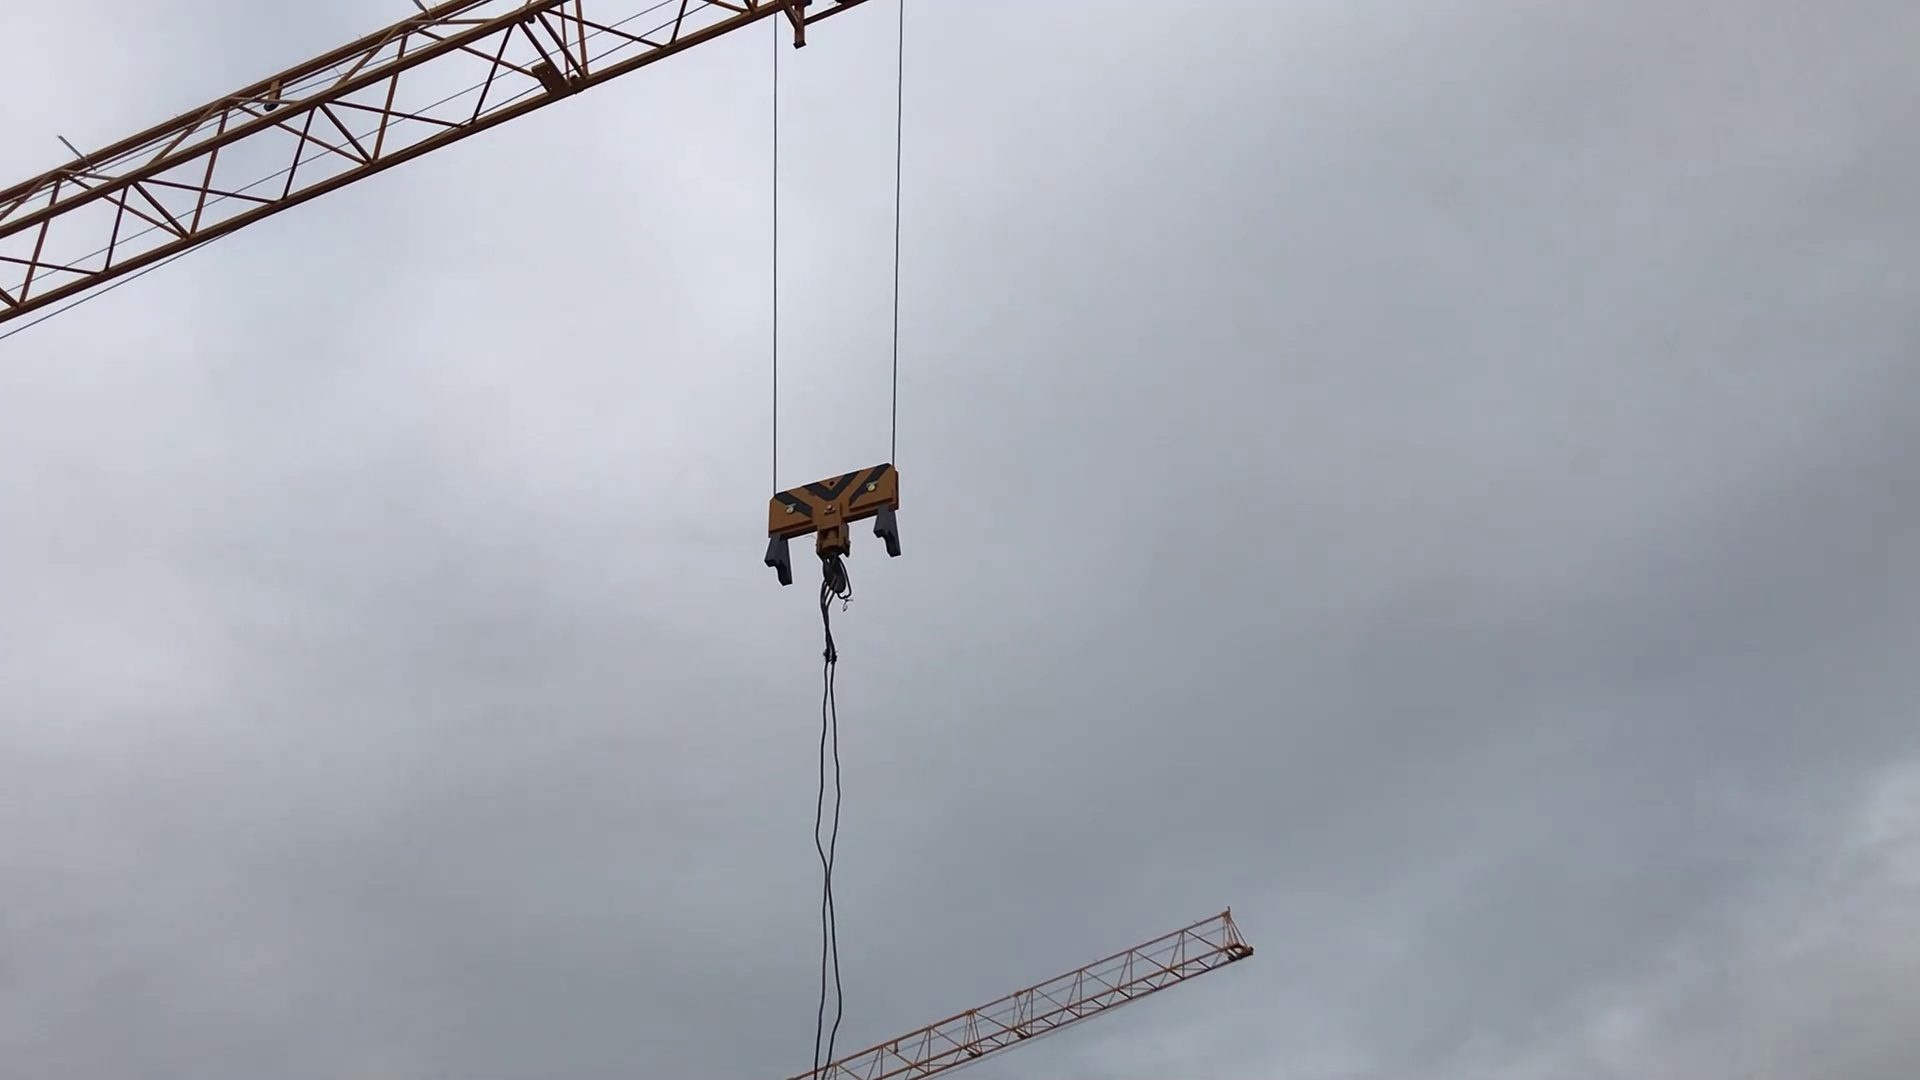hook: (752, 460, 924, 634)
